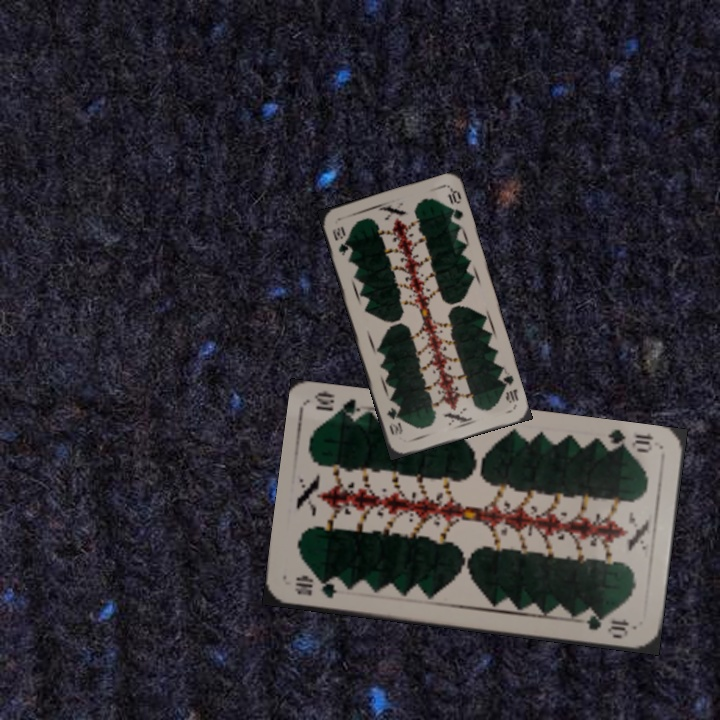G10: (599, 426, 656, 456), (291, 573, 339, 601), (495, 367, 521, 406), (328, 222, 351, 258)
